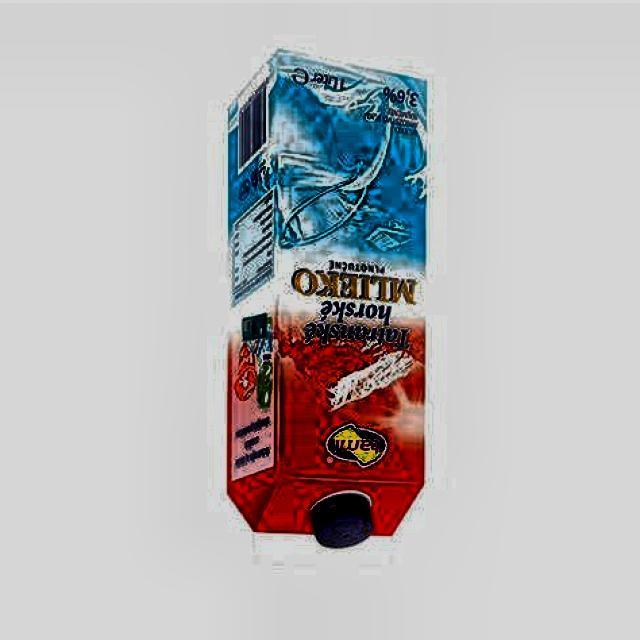cardboard: (224, 51, 431, 548)
